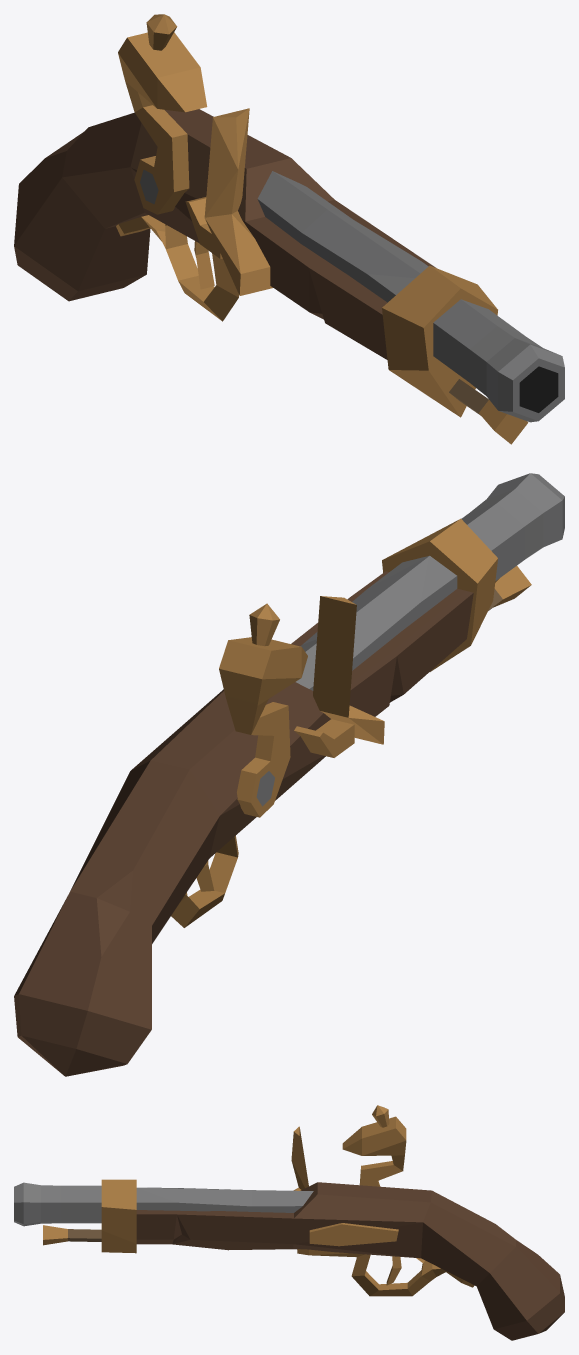
Rendered from SM_Wep_MusketPistol_02_Separate.glb.
The picture shows the model from 3 angles, top to bottom: view 1: azimuth 30°, elevation 25°; view 2: azimuth 150°, elevation 25°; view 3: azimuth 270°, elevation 25°; orthographic projection. The views are drawn at different scales.
Visible parts, largest first — view 1: SM_Wep_MusketPistol_02_Trigger; view 2: SM_Wep_MusketPistol_02_Trigger; view 3: SM_Wep_MusketPistol_02_Trigger.
Boxes of the visible parts, left/top/right/bottom form: SM_Wep_MusketPistol_02_Trigger: left=14, top=14, right=564, bottom=444; SM_Wep_MusketPistol_02_Trigger: left=14, top=473, right=564, bottom=1076; SM_Wep_MusketPistol_02_Trigger: left=14, top=1105, right=564, bottom=1340.
Bounding box in the file's own units: 0.000955 × 0.00246 × 0.00574.
